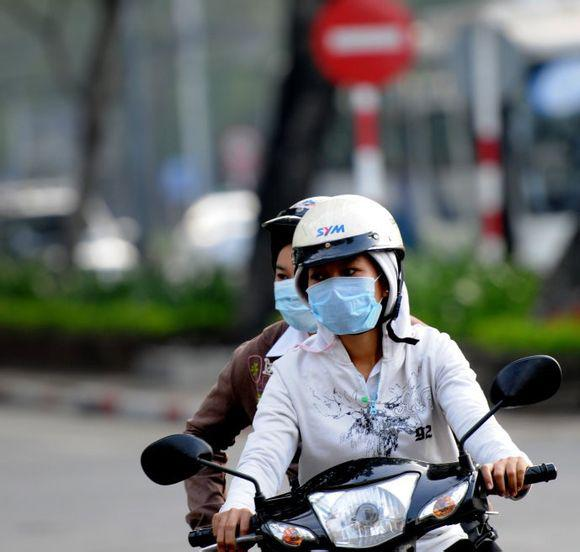OK: (312, 262, 384, 335), (278, 266, 339, 332)
